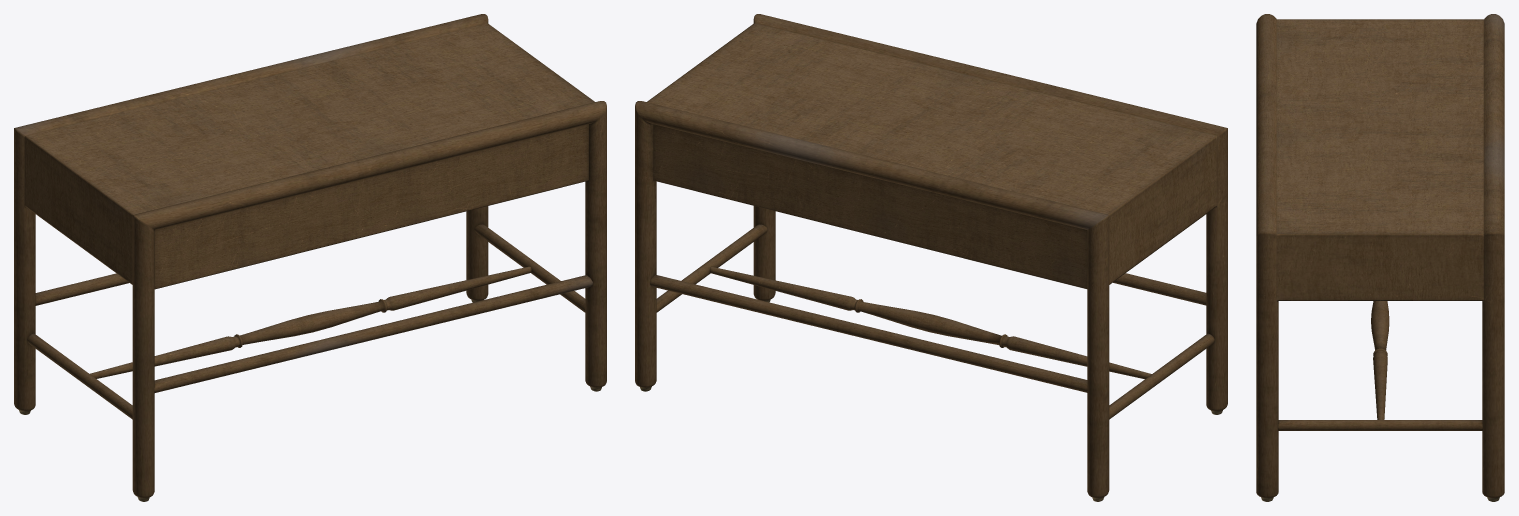
The model's file is small_wooden_table_01.gltf.
3 renders of one model, left to right at view 1: azimuth 30°, elevation 25°; view 2: azimuth 150°, elevation 25°; view 3: azimuth 270°, elevation 25°, orthographic. The views are drawn at different scales.
Parts seen in each view (by area): view 1: small_wooden_table_01; view 2: small_wooden_table_01; view 3: small_wooden_table_01.
Part boxes in pixels (box(x1,y1,x2,y2)): small_wooden_table_01: box(14, 14, 606, 501); small_wooden_table_01: box(635, 14, 1227, 501); small_wooden_table_01: box(1256, 14, 1504, 501).
Size of the model in its own units: 0.9162 by 0.5331 by 0.44.
1 material, 1 textured.
